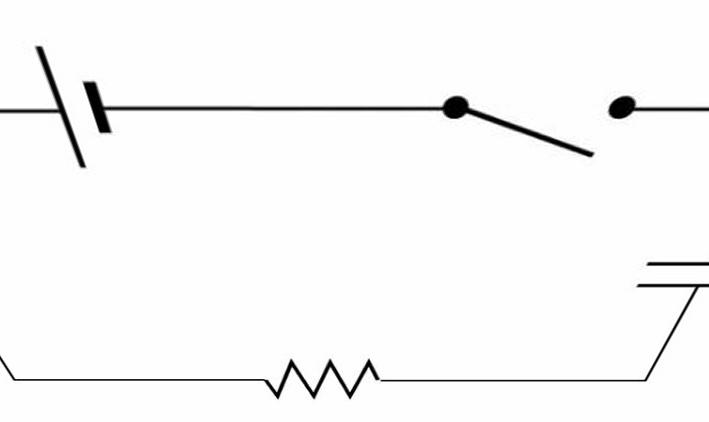Battery: (18, 29, 143, 191)
